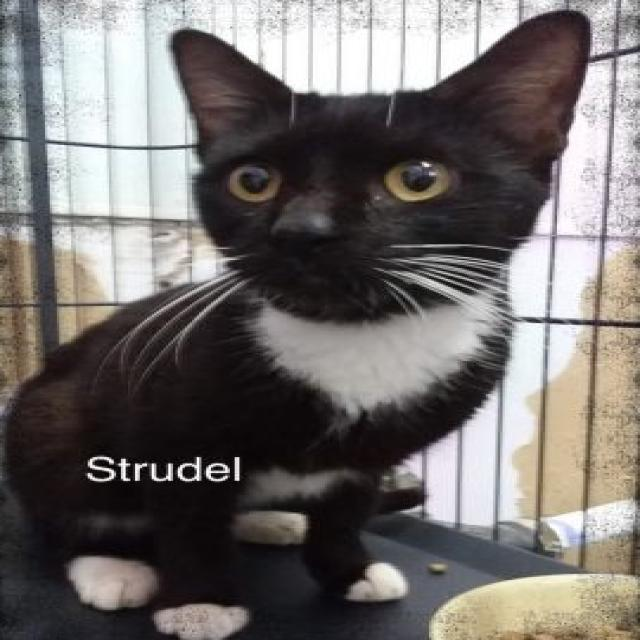Tuxedo: (2, 4, 594, 640)
